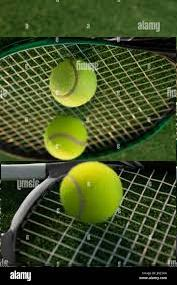tennis ball: (54, 164, 117, 224), (80, 92, 127, 140), (89, 39, 132, 82)
tennis racket: (0, 38, 176, 161), (1, 158, 176, 265)
